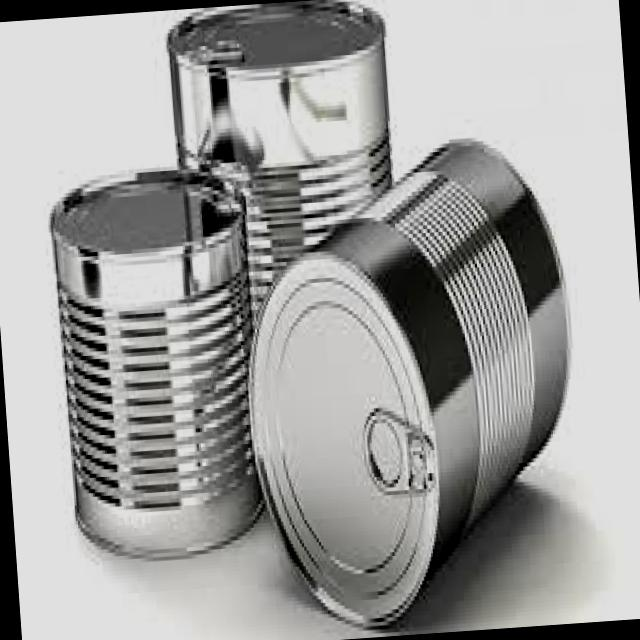metal: (250, 142, 569, 626), (51, 170, 260, 557), (168, 0, 392, 313)
